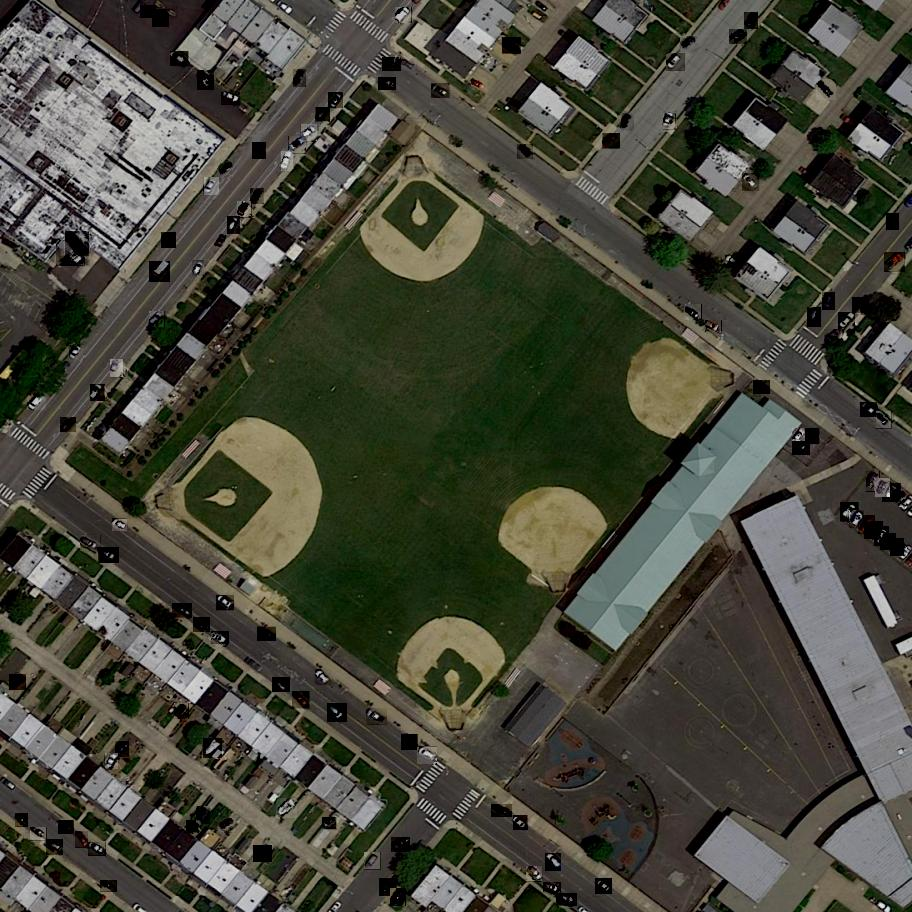large-vehicle: (57, 240, 85, 268), (65, 231, 89, 260), (149, 262, 171, 284)
ship: (276, 798, 298, 819), (203, 738, 224, 759)
small-vehicle: (817, 79, 837, 101), (885, 253, 906, 273), (837, 313, 857, 334), (244, 655, 266, 674), (327, 704, 347, 723), (882, 483, 902, 502), (666, 53, 686, 72), (840, 502, 859, 522), (417, 747, 438, 765), (366, 709, 388, 726), (27, 392, 46, 411), (152, 9, 171, 28), (864, 521, 884, 539), (80, 535, 101, 552), (99, 548, 120, 565), (172, 603, 193, 620), (891, 489, 909, 508), (364, 852, 382, 871), (217, 160, 236, 178), (825, 330, 844, 348), (743, 174, 761, 193), (254, 845, 273, 863), (379, 879, 398, 897), (197, 71, 214, 91), (287, 137, 307, 154), (391, 837, 411, 854), (502, 38, 522, 55), (216, 594, 234, 612), (292, 692, 310, 710), (545, 854, 563, 872), (402, 733, 419, 752), (681, 36, 700, 53), (858, 516, 875, 535), (685, 304, 704, 321), (204, 177, 220, 197), (431, 84, 451, 100), (849, 510, 865, 530), (808, 308, 823, 329), (557, 893, 578, 908), (315, 670, 333, 687), (301, 124, 319, 141), (730, 28, 748, 45), (876, 412, 893, 430), (880, 534, 898, 551), (526, 866, 543, 884), (594, 878, 612, 895), (257, 627, 276, 643), (860, 402, 879, 418), (875, 478, 891, 497), (391, 889, 407, 908), (492, 804, 512, 819), (382, 57, 402, 72), (875, 527, 890, 547), (866, 472, 881, 492), (396, 7, 413, 24), (150, 310, 166, 328), (193, 617, 211, 633), (212, 631, 230, 647), (272, 678, 290, 694), (753, 380, 771, 396), (792, 441, 810, 457), (603, 133, 621, 149), (90, 384, 105, 403), (170, 52, 189, 67), (221, 92, 240, 107), (46, 840, 65, 855), (744, 12, 758, 32), (69, 344, 85, 361), (61, 417, 77, 434), (9, 674, 26, 690), (513, 816, 530, 832), (852, 298, 869, 314), (518, 144, 534, 161), (58, 820, 75, 836), (238, 202, 253, 220), (226, 216, 241, 234), (793, 428, 808, 446), (726, 254, 744, 269), (218, 818, 236, 833), (111, 360, 125, 379), (175, 704, 191, 720), (114, 741, 130, 757), (161, 231, 176, 248), (316, 107, 331, 124), (805, 428, 820, 445), (293, 69, 307, 87), (329, 92, 343, 110), (253, 143, 267, 161), (470, 77, 488, 91), (88, 843, 106, 857), (197, 806, 211, 824), (621, 113, 635, 131), (281, 152, 294, 171), (891, 538, 904, 557), (141, 4, 157, 19), (251, 188, 265, 205), (886, 214, 900, 231), (105, 753, 119, 770), (30, 828, 47, 842), (75, 832, 89, 849), (379, 77, 397, 90), (823, 292, 836, 310), (663, 113, 676, 131), (542, 882, 561, 894), (705, 321, 723, 333), (214, 234, 228, 249), (192, 261, 205, 277), (112, 519, 128, 532), (402, 60, 418, 73), (101, 880, 117, 893), (323, 818, 338, 831), (15, 813, 28, 828), (187, 820, 200, 835)
